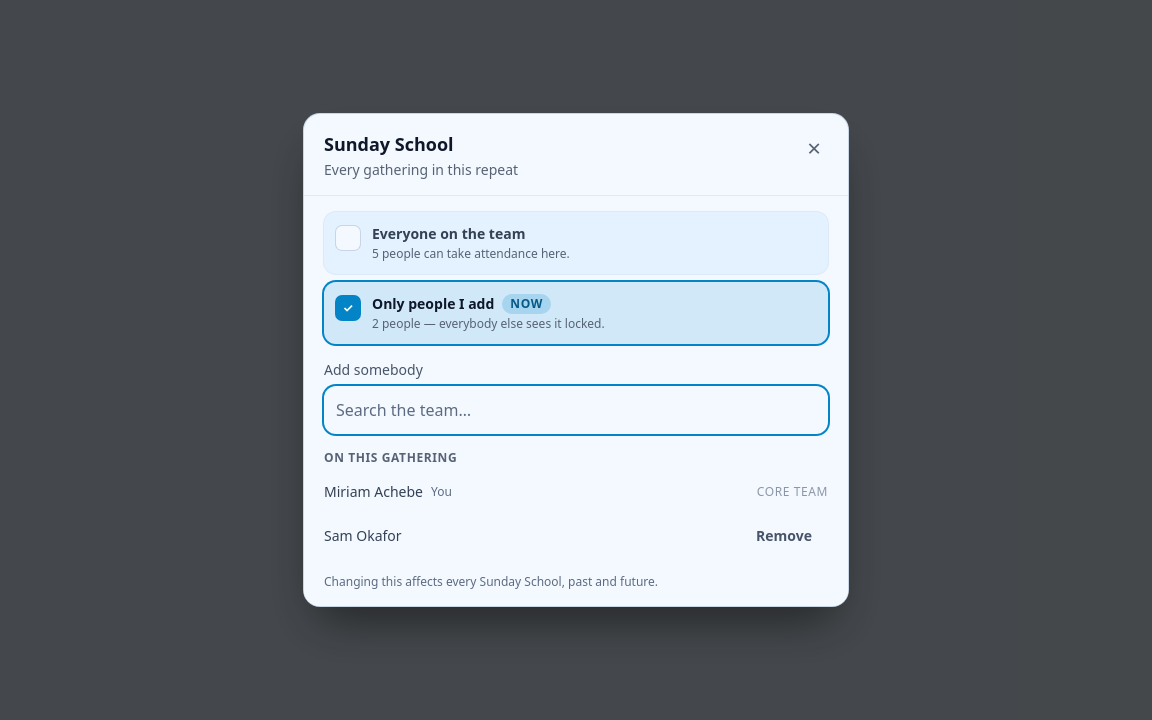
Test case: searching the team for somebody to add › tells "already on this gathering" apart from "no such person"
Type "Sam" into the field labelled "Add somebody".
click(576, 410); type("Sam")  # box x1=324 y1=386 x2=828 y2=434
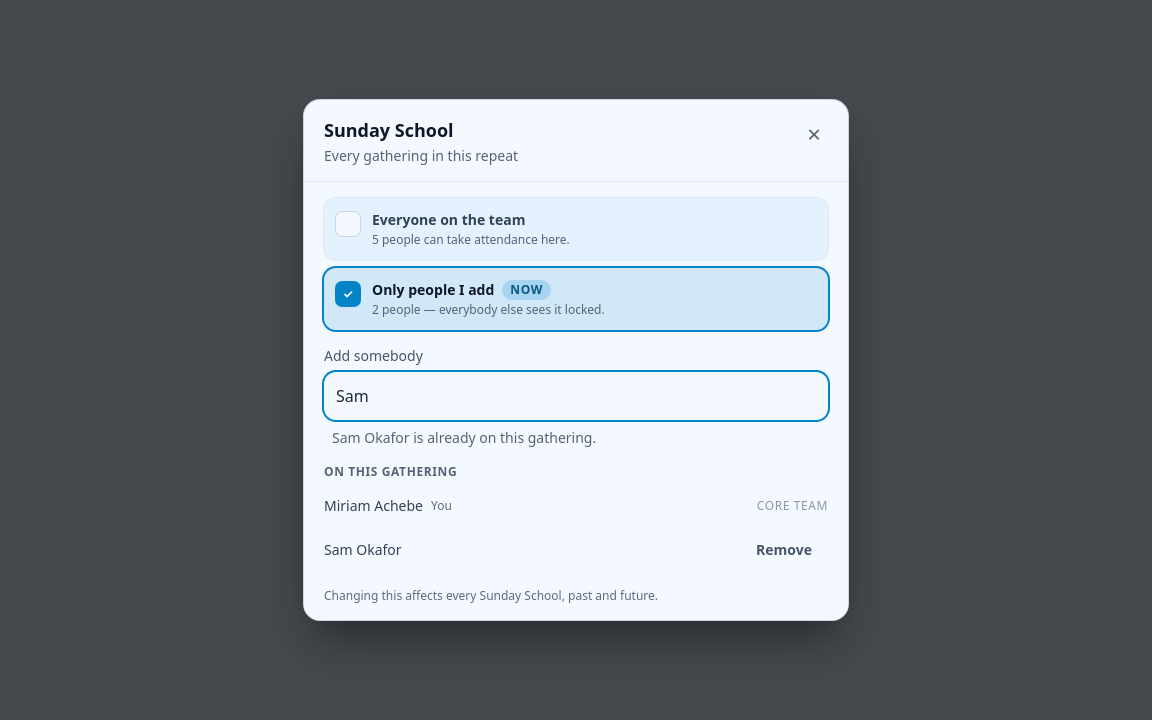
Expected: the text "Sam Okafor is already on this gathering." is shown, x1=332 y1=428 x2=596 y2=447
